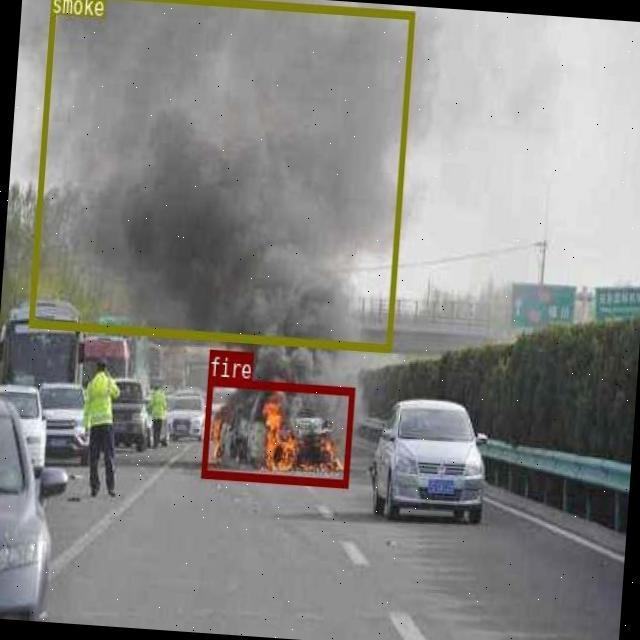fire: (200, 376, 354, 485)
smoke: (28, 0, 414, 350)
